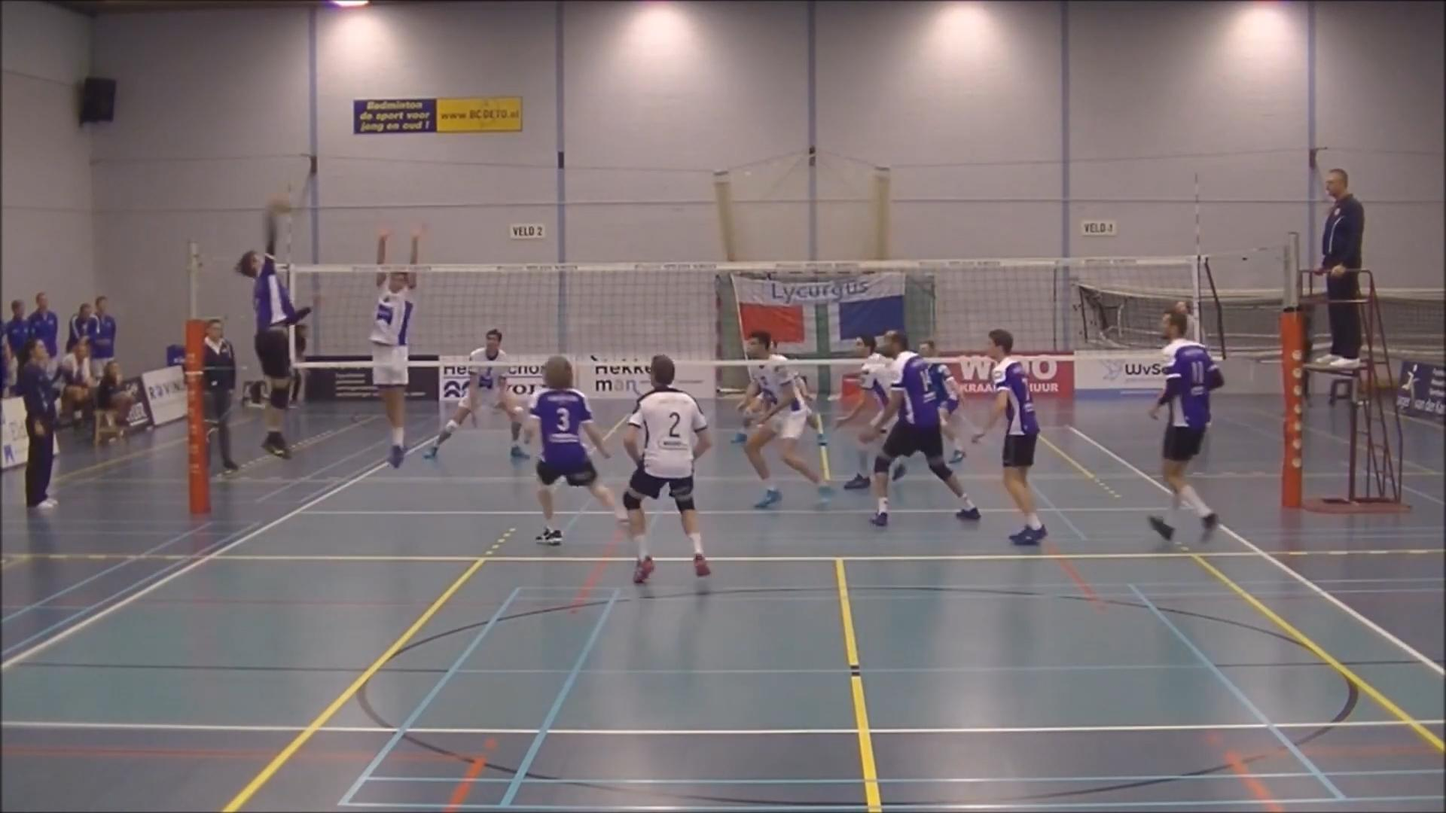attacco: (235, 202, 319, 456)
muro: (359, 218, 425, 472)
